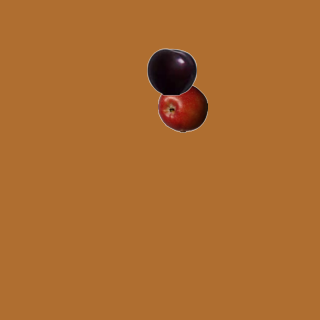Apple Braeburn: (157, 82, 207, 132)
Cherry Wax Black: (146, 46, 196, 96)
